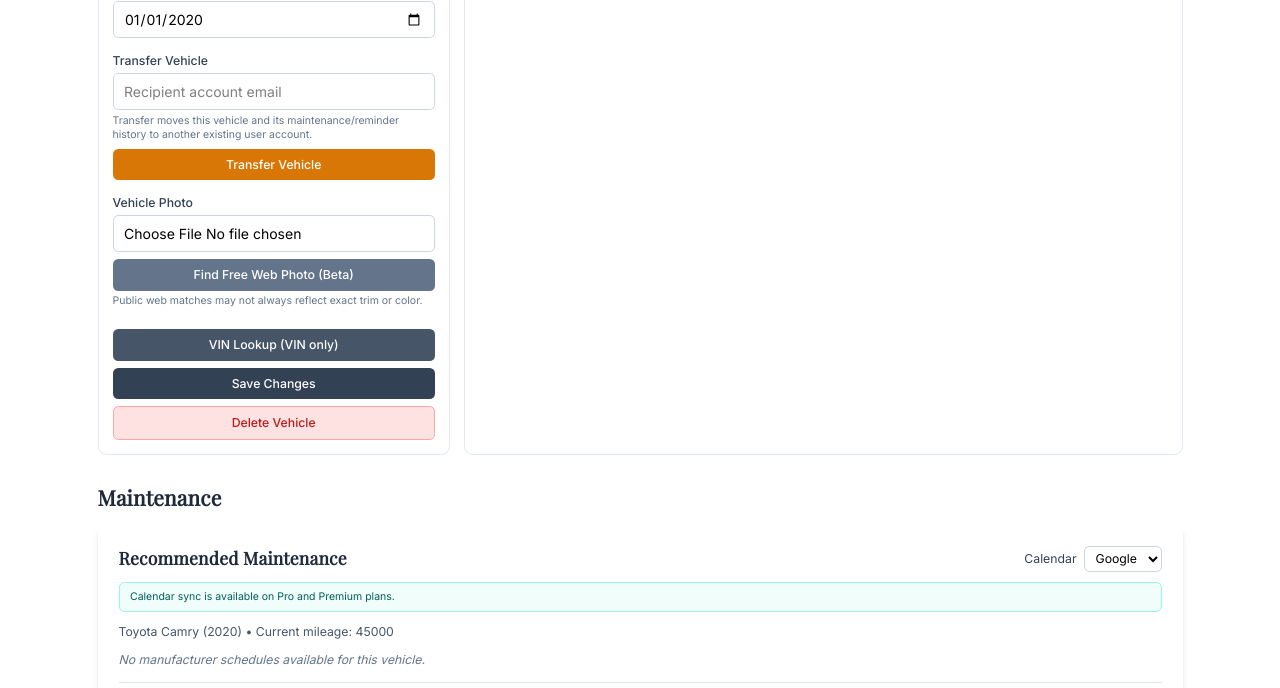
Test: EditVehicle page › looks up VIN and updates visible details
The width and height of the screenshot is (1280, 688).
(page scrolled)
Click the button "VIN Lookup (VIN only)": (274, 345) [112,329,435,360]
(page scrolled)
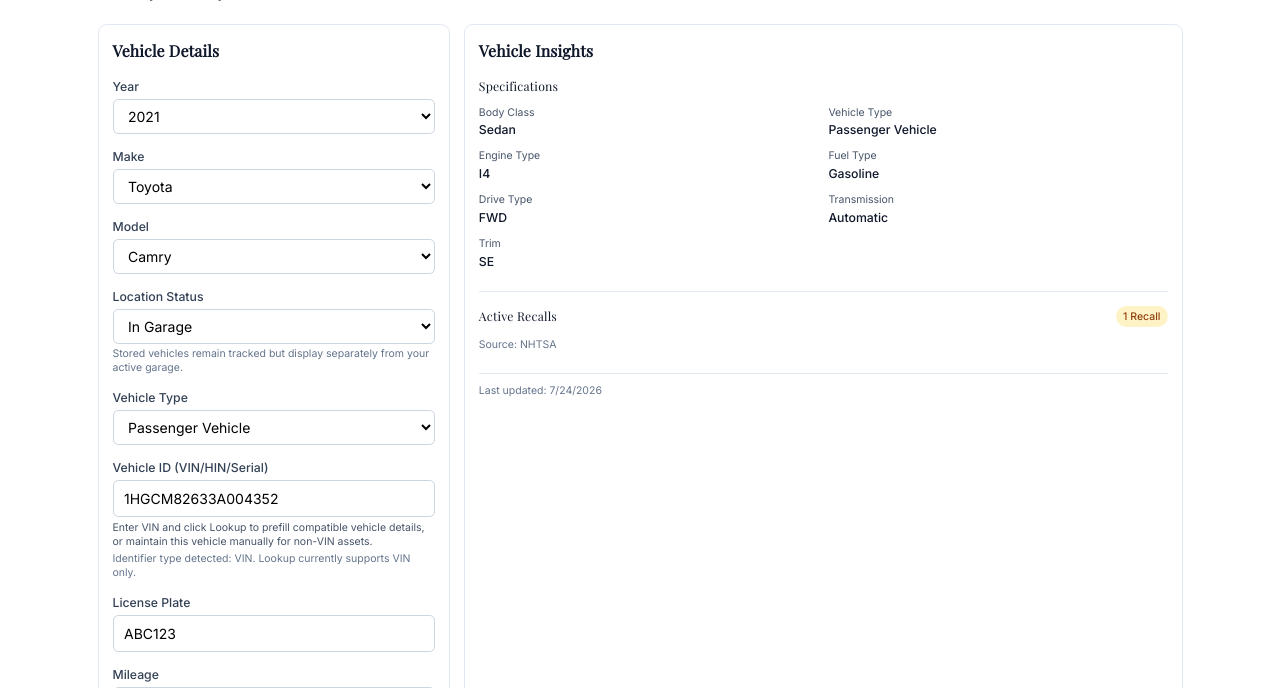
Expected: the text "1 Recall" is shown, [1116,306,1168,327]
Expected: the text "Source: NHTSA" is shown, [479,338,556,350]
